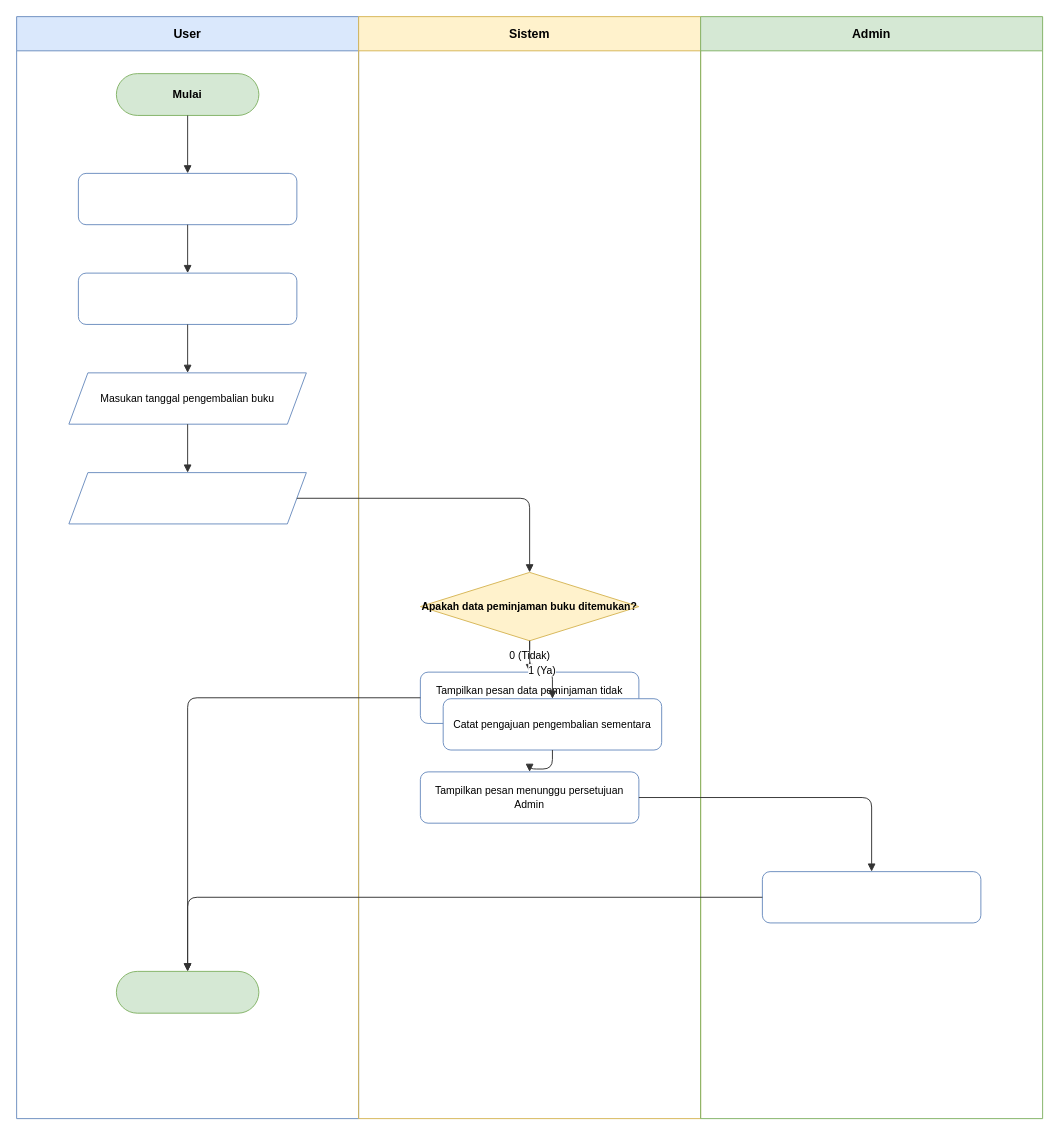
Image size: 1059x1135. Some labels were removed from this diagram. The centre of each missing label's shape, as x and y in pixels:
Buka menu daftar peminjaman aktif: pixel 187 198
Klik tombol ajukan pengembalian: pixel 187 498
Menerima daftar pengajuan pengembalian: pixel 871 897
Pilih buku yang ingin dikembalikan: pixel 187 298
Selesai: pixel 187 991
